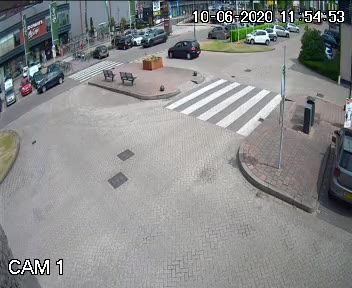car: (166, 37, 199, 62), (34, 70, 65, 91), (138, 26, 166, 45)
